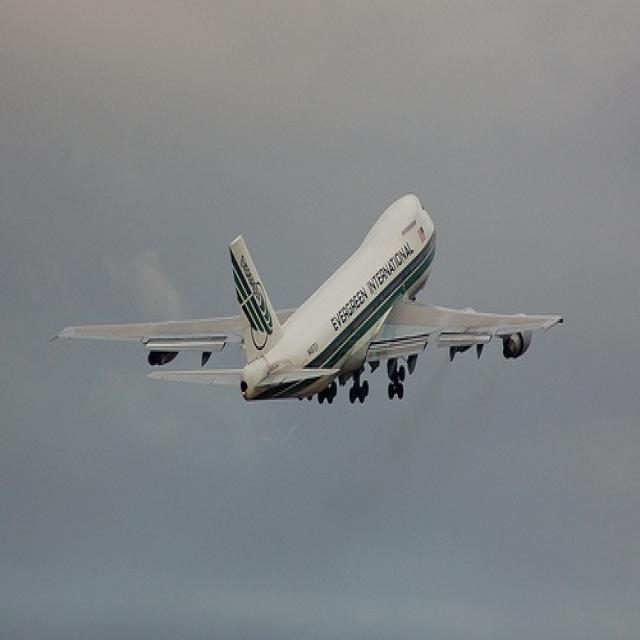aeroplane: (48, 190, 568, 412)
